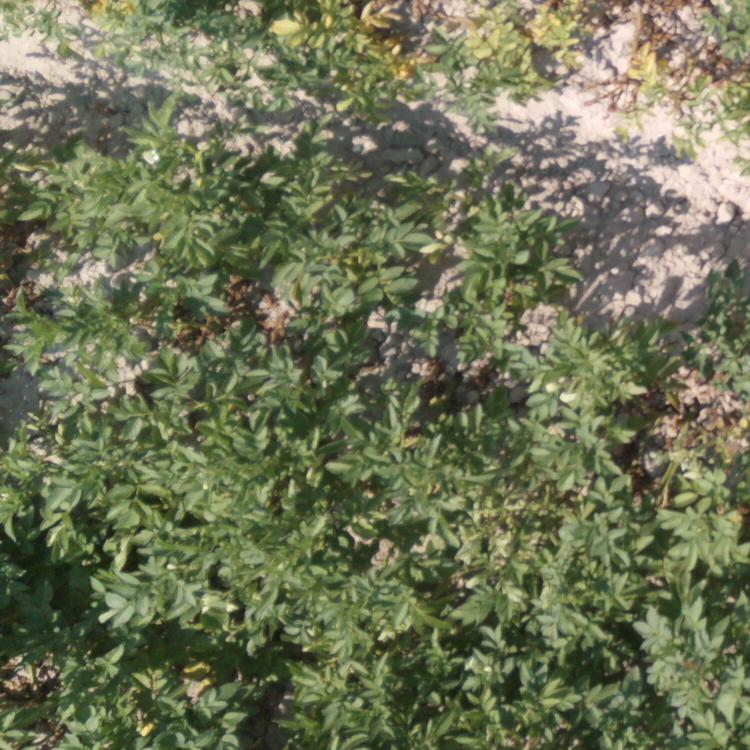healthy: (1, 99, 264, 432), (312, 445, 595, 750), (10, 446, 293, 746), (595, 314, 750, 731), (281, 116, 443, 429), (466, 182, 578, 438)
stressed: (265, 1, 606, 83), (607, 1, 746, 142), (5, 1, 250, 62)
